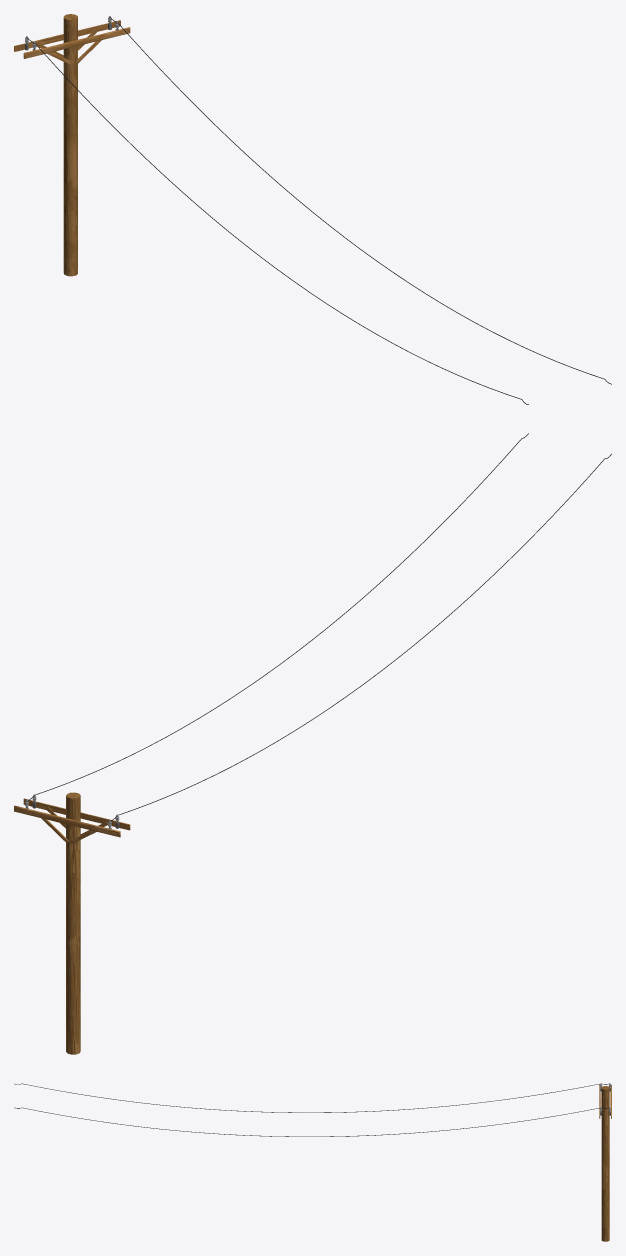
Rendered from Power_Pole_W_Wires.fbx.
3 renders of one model, top to bottom at view 1: azimuth 30°, elevation 25°; view 2: azimuth 150°, elevation 25°; view 3: azimuth 270°, elevation 25°, orthographic. The views are drawn at different scales.
Parts seen in each view (by area): view 1: Cylinder009; view 2: Cylinder009; view 3: Cylinder009.
Part boxes in pixels (left/top/right/bottom): Cylinder009: left=14, top=14, right=611, bottom=404; Cylinder009: left=14, top=433, right=611, bottom=1054; Cylinder009: left=14, top=1083, right=611, bottom=1241.
Bounding box in the file's own units: 5.03 × 41.31 × 11.6.
